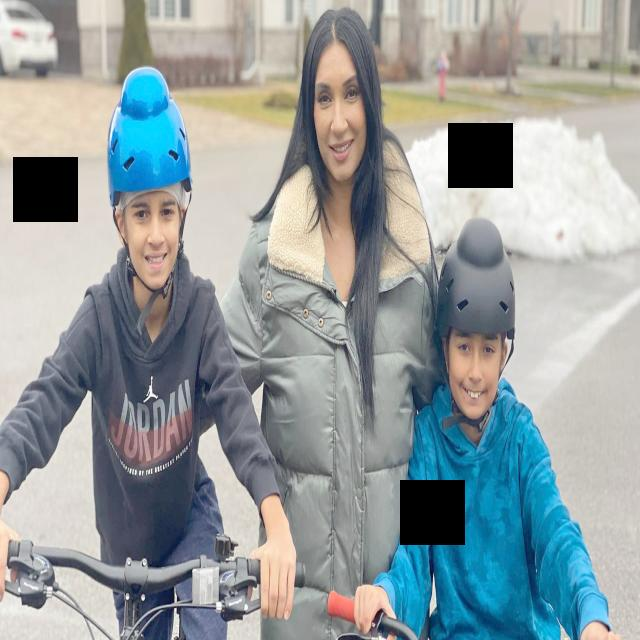Helmet: (108, 67, 192, 212), (436, 218, 515, 354)
